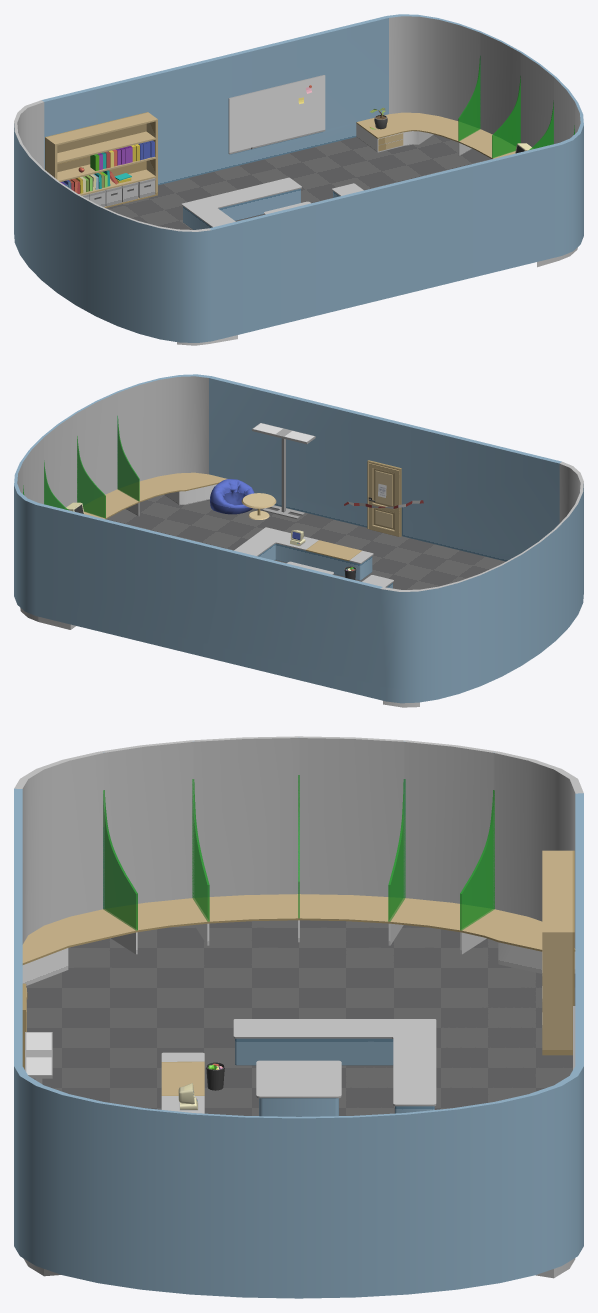
The model's file is office.fbx.
3 renders of one model, top to bottom at view 1: azimuth 30°, elevation 25°; view 2: azimuth 150°, elevation 25°; view 3: azimuth 270°, elevation 25°, orthographic. The views are drawn at different scales.
Parts seen in each view (by area): view 1: wall, floor, witeboard, shelf, stol_r, table1, separators, book, boxes; view 2: wall, floor, table1, stol_r, separators, door, lamp, sofa, coffe_table; view 3: wall, floor, stol_l, table1, separators, shelf, table_central, lamp.
Boxes of the visible parts, box(x1,y1,x2,y2) form: wall: box(14, 14, 583, 342); floor: box(106, 134, 491, 229); witeboard: box(228, 75, 325, 154); shelf: box(45, 112, 157, 207); stol_r: box(356, 112, 577, 267); table1: box(181, 177, 363, 229); separators: box(458, 56, 574, 157); book: box(60, 140, 154, 193); boxes: box(82, 178, 155, 206); wall: box(14, 374, 583, 703); floor: box(106, 494, 505, 589); table1: box(234, 527, 393, 588); stol_r: box(20, 472, 226, 629); separators: box(23, 416, 139, 518); door: box(367, 460, 401, 536); lamp: box(252, 423, 315, 519); sofa: box(210, 479, 254, 514); coffe_table: box(241, 493, 276, 519); wall: box(14, 736, 583, 1298); floor: box(26, 920, 575, 1115); stol_l: box(22, 894, 575, 985); table1: box(161, 1019, 436, 1113); separators: box(103, 775, 494, 930); shelf: box(542, 850, 574, 1055); table_central: box(256, 1060, 341, 1116); lamp: box(25, 1032, 52, 1083).
Bounding box in the file's own units: 4526 × 1066 × 2854.
Materials: 4 (3 with a texture image).
